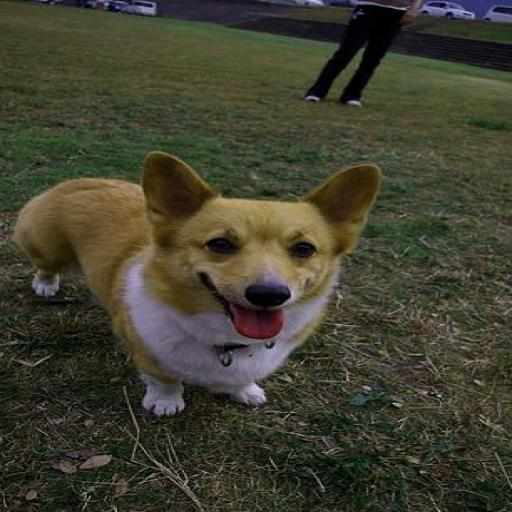dog_face: (128, 143, 376, 336)
